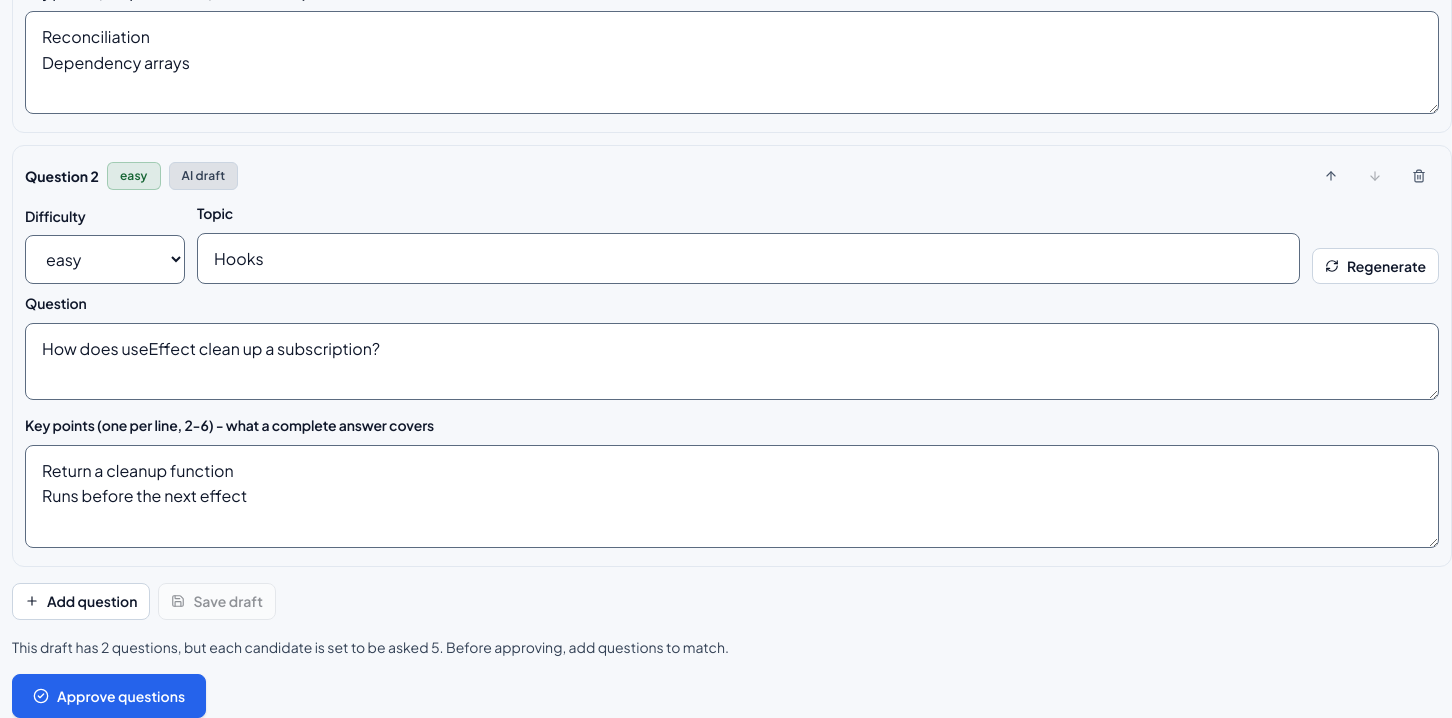
Scenario: adding a question › "Add question" offers both ways to add
(page scrolled)
Click the button "Add question" at (81, 601), box [12, 583, 150, 620]
(page scrolled)
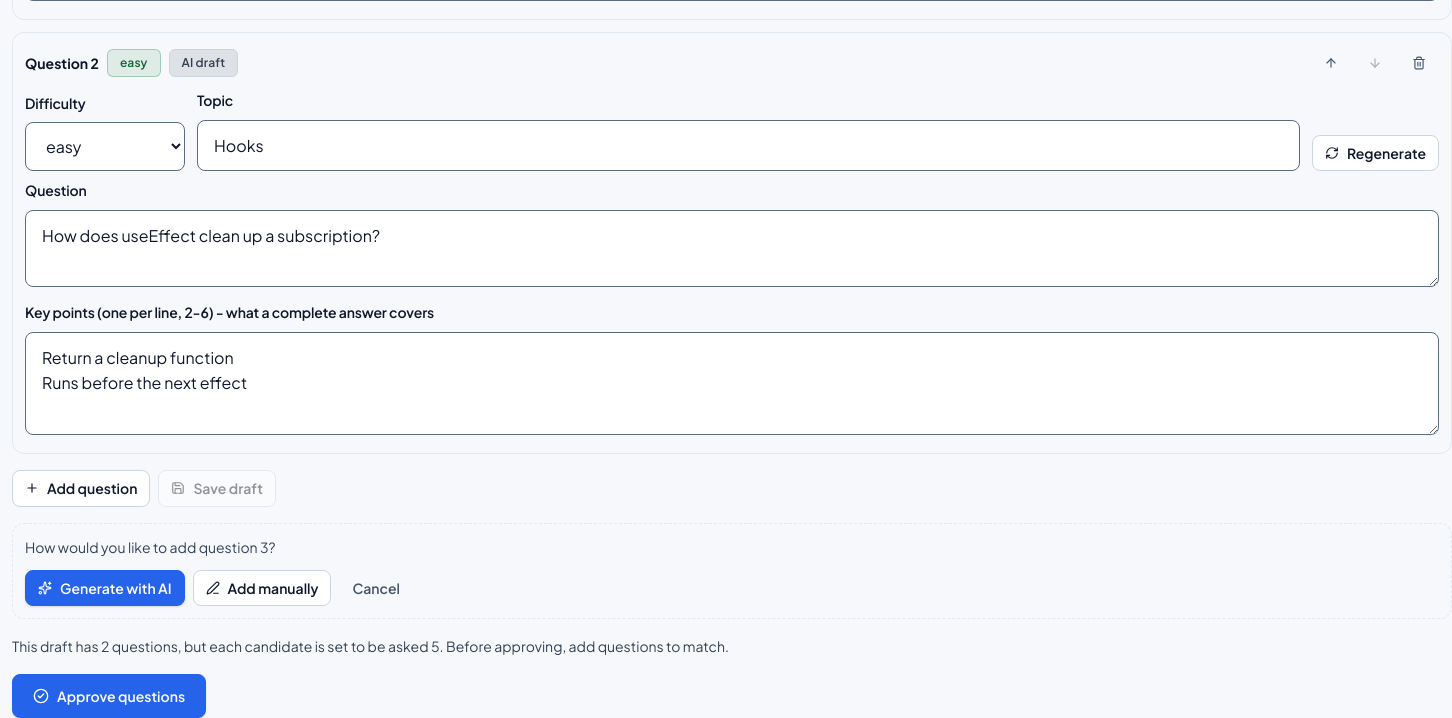
Result: the button "Add question" is expanded at [12, 470, 150, 507]
Result: the button "Generate with AI" is shown at [25, 570, 185, 606]
Result: the button "Add manually" is shown at [193, 570, 332, 606]
